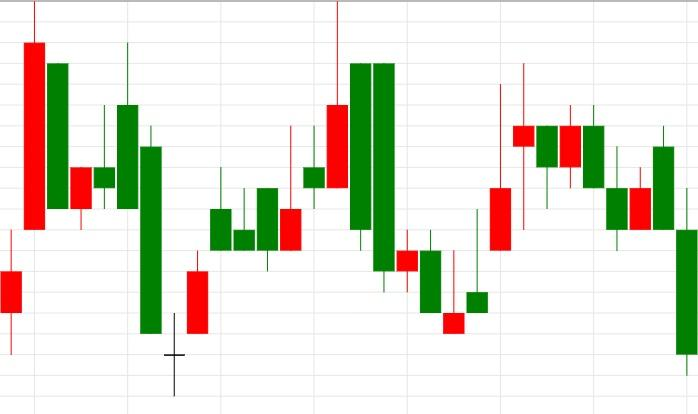inverse_hammer_rise: (350, 63, 465, 334)
morning_star_rise: (94, 42, 208, 397)
